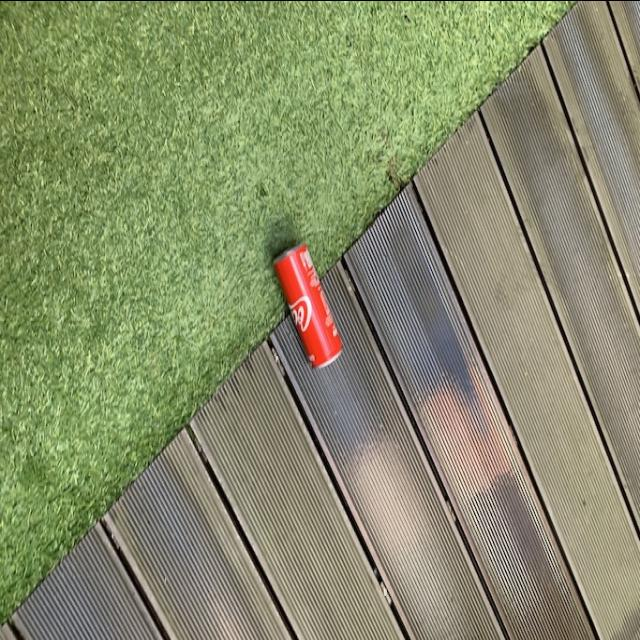Aluminum Can: (272, 234, 343, 372)
